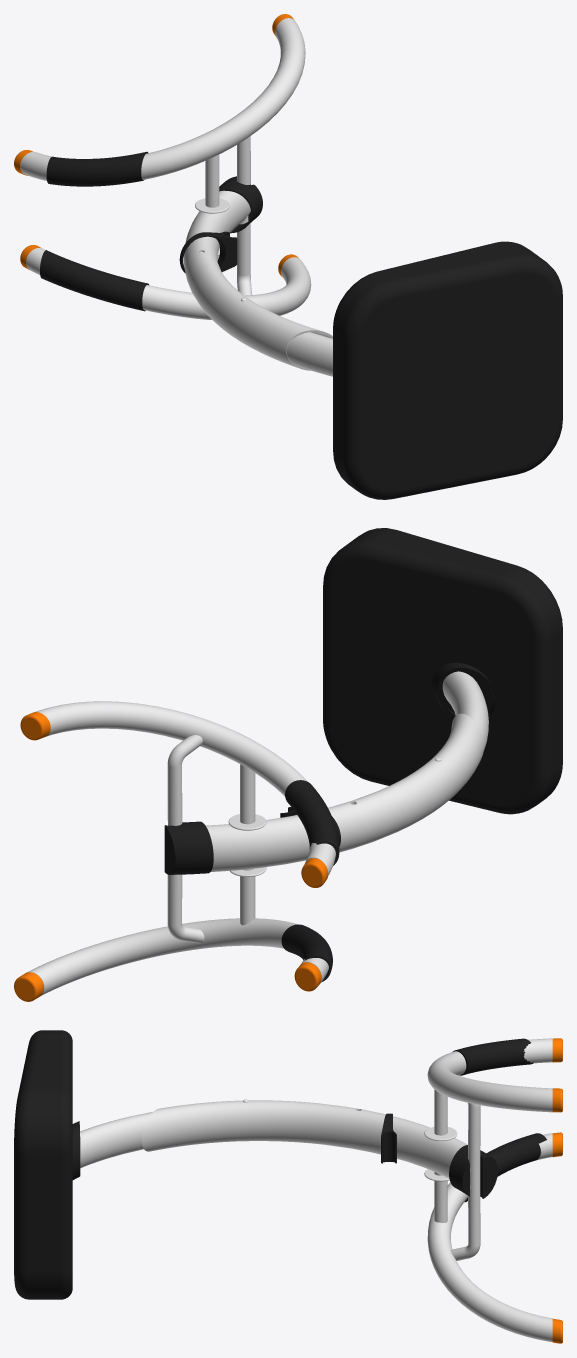
Rendered from c-seat-abierto.glb.
3 views of the same model, one above another, from view 1: azimuth 30°, elevation 25°; view 2: azimuth 150°, elevation 25°; view 3: azimuth 270°, elevation 25° (orthographic). The views are drawn at different scales.
Visible parts, largest first — view 1: Cuerpo1 (2), tubo inf, pata izq, pata dere (1), pata dere (2), Cuerpo1 (1), pata izq (1) (2) (1) (1), Body25, Tubo sup (1), Cuerpo14, Cuerpo10, Eje; view 2: Cuerpo1 (1), tubo inf, pata izq, pata dere (1), Cuerpo1 (2), Body25, Cuerpo10, pata izq (1) (2) (1) (1), Tubo sup (1), Eje, pata dere (2), Tubo sup (1) (1) (+4 smaller); view 3: tubo inf, Cuerpo1 (2), Cuerpo1 (1), pata dere (1), pata izq, Tubo sup (1), Body25, pata izq (1) (2) (1) (1), Cuerpo10, pata dere (2), Eje, Cuerpo14 (+1 smaller).
Part boxes in pixels (bbox=[...]): Cuerpo1 (2): bbox=[340, 246, 562, 499]; tubo inf: bbox=[184, 190, 332, 370]; pata izq: bbox=[20, 18, 305, 180]; pata dere (1): bbox=[142, 257, 311, 320]; pata dere (2): bbox=[40, 250, 148, 311]; Cuerpo1 (1): bbox=[333, 241, 533, 487]; pata izq (1) (2) (1) (1): bbox=[46, 151, 148, 186]; Body25: bbox=[237, 136, 252, 295]; Tubo sup (1): bbox=[241, 297, 332, 376]; Cuerpo14: bbox=[179, 231, 237, 273]; Cuerpo10: bbox=[219, 176, 262, 233]; Eje: bbox=[205, 154, 219, 260]; Cuerpo1 (1): bbox=[323, 538, 557, 814]; tubo inf: bbox=[205, 713, 483, 871]; pata izq: bbox=[34, 701, 335, 875]; pata dere (1): bbox=[26, 918, 297, 995]; Cuerpo1 (2): bbox=[347, 528, 562, 800]; Body25: bbox=[167, 735, 204, 943]; Cuerpo10: bbox=[164, 821, 213, 874]; pata izq (1) (2) (1) (1): bbox=[285, 780, 339, 865]; Tubo sup (1): bbox=[352, 671, 488, 804]; Eje: bbox=[240, 764, 255, 925]; pata dere (2): bbox=[281, 924, 332, 981]; Tubo sup (1) (1): bbox=[432, 662, 498, 722]; tubo inf: bbox=[141, 1100, 470, 1188]; Cuerpo1 (2): bbox=[14, 1030, 50, 1299]; Cuerpo1 (1): bbox=[51, 1030, 72, 1299]; pata dere (1): bbox=[427, 1182, 552, 1341]; pata izq: bbox=[427, 1038, 552, 1112]; Tubo sup (1): bbox=[80, 1099, 248, 1168]; Body25: bbox=[450, 1103, 480, 1260]; pata izq (1) (2) (1) (1): bbox=[452, 1038, 533, 1075]; Cuerpo10: bbox=[449, 1145, 497, 1198]; pata dere (2): bbox=[464, 1133, 546, 1202]; Eje: bbox=[434, 1089, 447, 1222]; Cuerpo14: bbox=[381, 1113, 396, 1163].
Bounding box in the file's own units: 0.3303 × 0.2924 × 0.5813.
